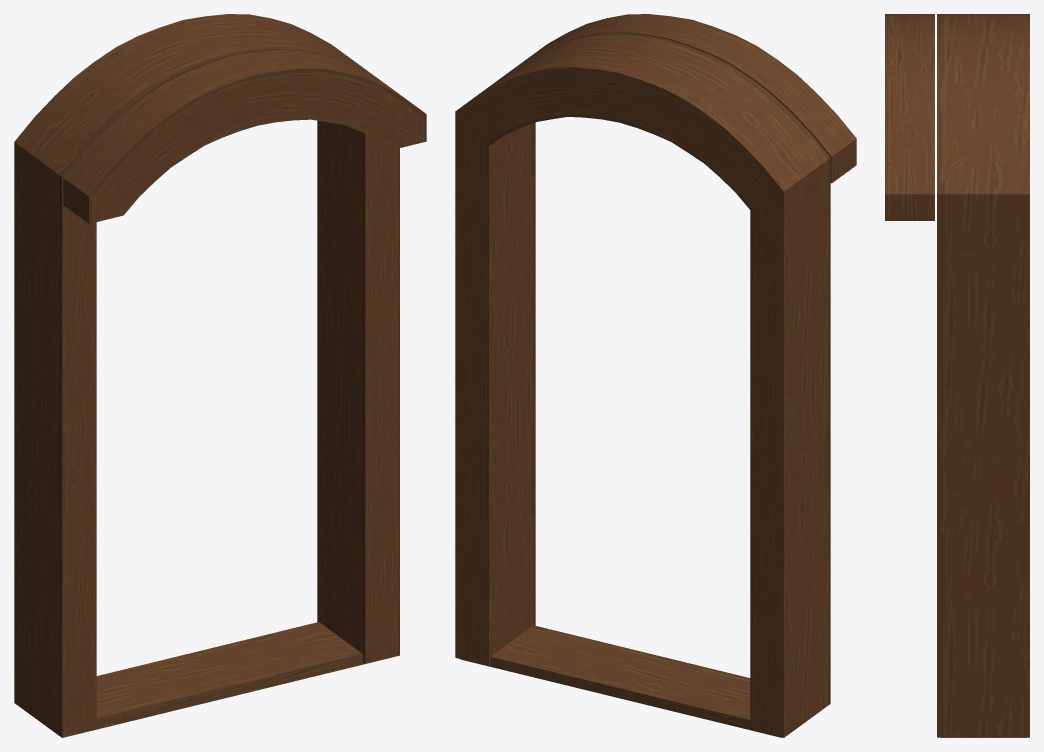
3 renders of one model, left to right at view 1: azimuth 30°, elevation 25°; view 2: azimuth 150°, elevation 25°; view 3: azimuth 270°, elevation 25°, orthographic. The views are drawn at different scales.
Parts seen in each view (by area): view 1: 8b49f1e246f7128ea5cc85fbcf3f8da7ba982d0065df3868a3c7d2f56070; view 2: 8b49f1e246f7128ea5cc85fbcf3f8da7ba982d0065df3868a3c7d2f56070; view 3: 8b49f1e246f7128ea5cc85fbcf3f8da7ba982d0065df3868a3c7d2f56070.
Part boxes in pixels (x1=…): 8b49f1e246f7128ea5cc85fbcf3f8da7ba982d0065df3868a3c7d2f56070: x1=14, y1=14, x2=426, y2=737; 8b49f1e246f7128ea5cc85fbcf3f8da7ba982d0065df3868a3c7d2f56070: x1=455, y1=14, x2=856, y2=737; 8b49f1e246f7128ea5cc85fbcf3f8da7ba982d0065df3868a3c7d2f56070: x1=885, y1=14, x2=1029, y2=737.
Bounding box in the file's own units: 1.41 × 2.56 × 0.539.
1 material, 1 textured.
